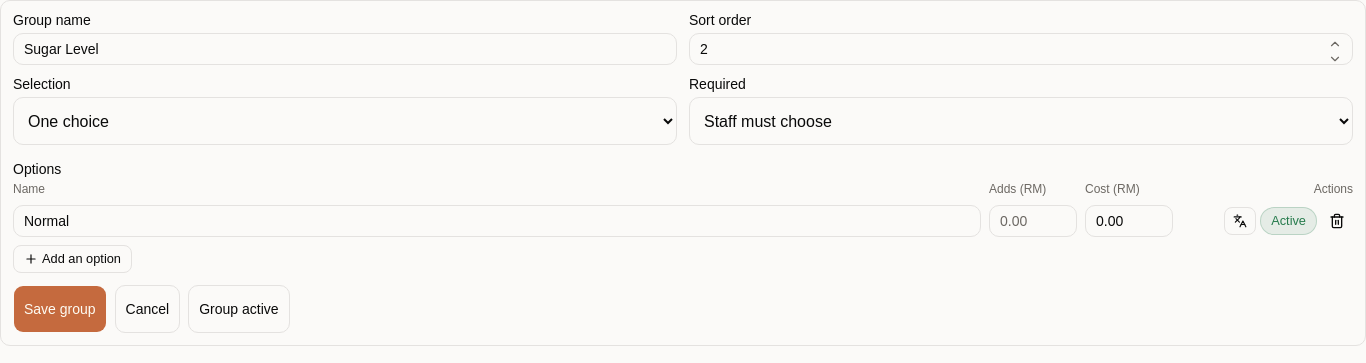
Test case: the sort order of a modifier group › still takes a typed value, and steps from it
Replace the text in the number field with id "group-sort" with "7" at (1021, 49), box x1=689 y1=33 x2=1353 y2=65
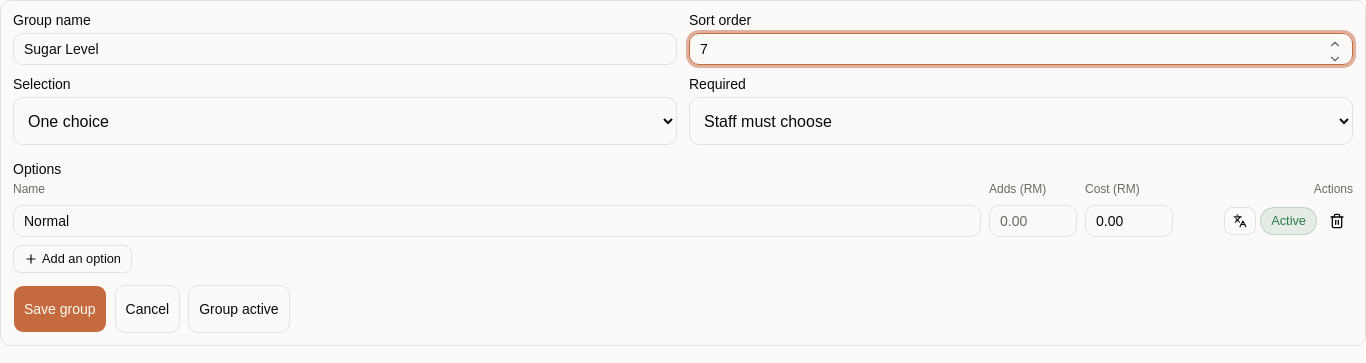
Click the button named "Decrease sort order" at (1335, 59), box x1=1321 y1=52 x2=1349 y2=66
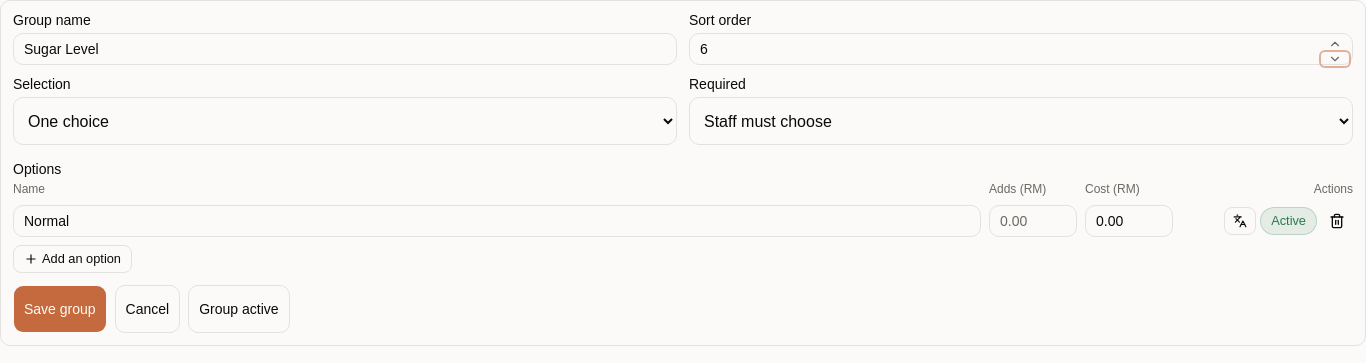
Result: the number field with id "group-sort" holds "6" at x1=689 y1=33 x2=1353 y2=65
